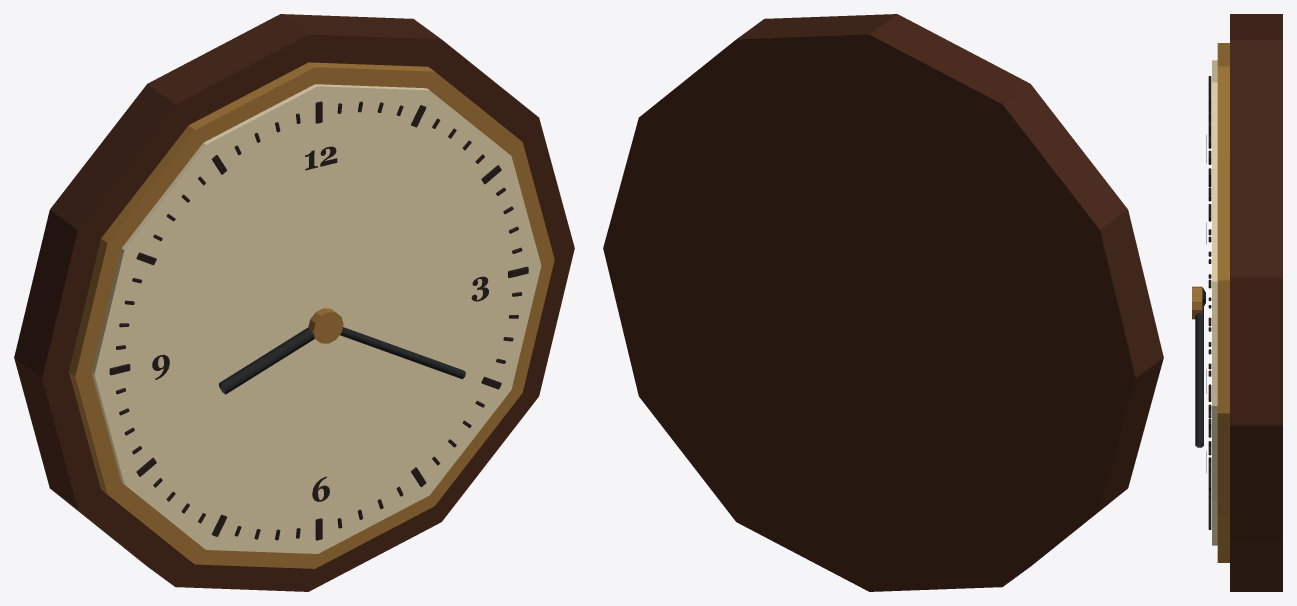
File: StoppedPubClock.glb
3 renders of one model, left to right at view 1: azimuth 30°, elevation 25°; view 2: azimuth 150°, elevation 25°; view 3: azimuth 270°, elevation 25°, orthographic. The views are drawn at different scales.
Parts seen in each view (by area): view 1: IvoryClockFace, OakClockCase, BrassClockRim, StoppedClockHand, StoppedClockHand.001, ClockHandPin; view 2: OakClockCase; view 3: OakClockCase, BrassClockRim, IvoryClockFace, StoppedClockHand.001, ClockHandPin.
Boxes of the visible parts, box(x1,y1,x2,y2) form: IvoryClockFace: box(91, 84, 541, 553); OakClockCase: box(14, 14, 574, 591); BrassClockRim: box(69, 62, 554, 568); StoppedClockHand: box(219, 327, 314, 394); StoppedClockHand.001: box(340, 327, 465, 379); ClockHandPin: box(308, 308, 343, 343); OakClockCase: box(603, 14, 1163, 591); OakClockCase: box(1230, 14, 1282, 591); BrassClockRim: box(1217, 43, 1229, 562); IvoryClockFace: box(1212, 60, 1217, 545); StoppedClockHand.001: box(1195, 301, 1203, 447); ClockHandPin: box(1192, 286, 1202, 319).
Size of the model in its own units: 2.3 by 2.3 by 0.36.
